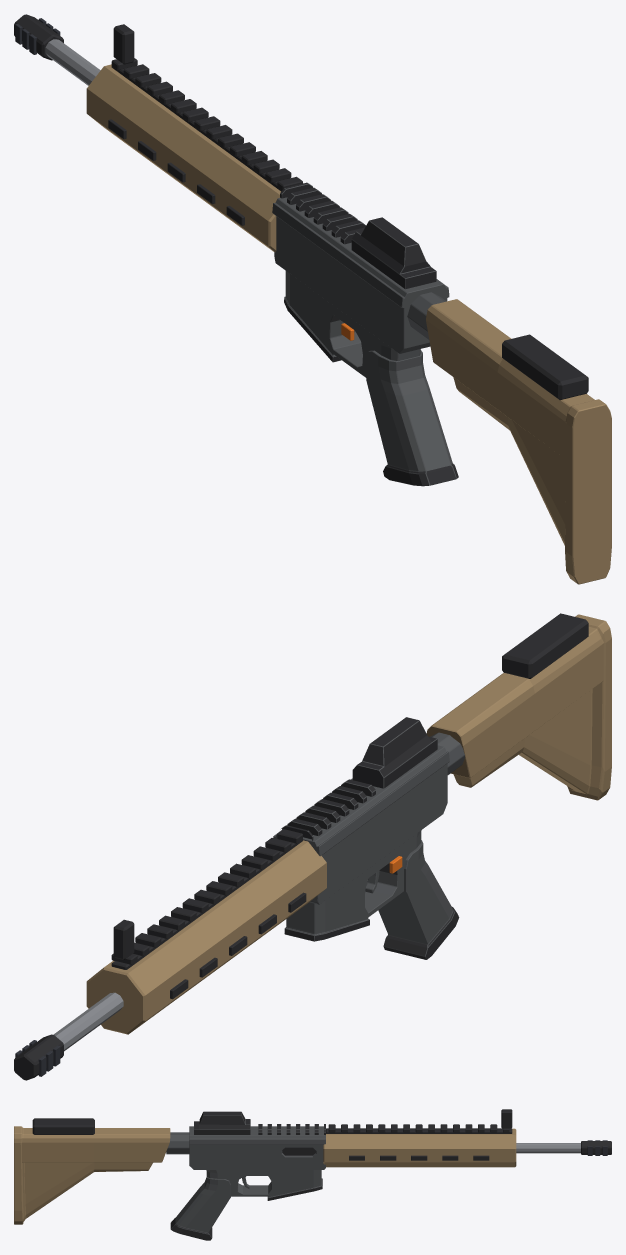
File: rifle.glb
3 renders of one model, top to bottom at view 1: azimuth 30°, elevation 25°; view 2: azimuth 150°, elevation 25°; view 3: azimuth 270°, elevation 25°, orthographic. The views are drawn at different scales.
Parts seen in each view (by area): view 1: rifle; view 2: rifle; view 3: rifle.
Part boxes in pixels (box(x1,y1,x2,y2)): rifle: box(14, 14, 611, 584); rifle: box(14, 613, 611, 1080); rifle: box(14, 1109, 611, 1240).
Bounding box in the file's own units: 0.0527 × 0.1844 × 0.8.
